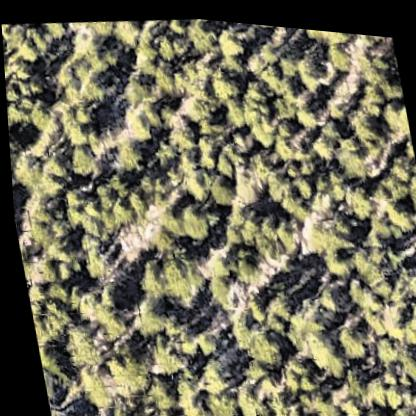tree-top: (146, 239, 205, 303), (261, 41, 323, 96), (95, 339, 153, 396), (308, 312, 364, 365), (22, 198, 74, 255), (8, 147, 60, 201), (233, 317, 285, 368), (167, 193, 218, 244), (53, 317, 100, 372), (97, 177, 146, 229), (353, 40, 400, 94), (343, 235, 393, 284), (206, 164, 259, 209), (218, 200, 269, 246), (86, 290, 132, 341), (4, 83, 51, 132), (70, 232, 115, 282), (68, 362, 114, 410), (141, 331, 187, 377), (270, 345, 316, 391), (3, 20, 49, 66), (299, 322, 344, 369), (326, 125, 371, 172), (346, 277, 395, 320), (68, 182, 108, 231), (223, 161, 266, 206), (28, 293, 71, 338), (192, 350, 234, 395), (50, 91, 92, 134), (327, 312, 367, 356), (105, 132, 147, 173), (60, 137, 101, 179), (64, 22, 105, 63), (376, 152, 416, 194), (120, 98, 159, 140), (167, 374, 206, 416), (300, 216, 344, 253), (240, 102, 277, 145), (144, 372, 180, 416), (74, 58, 114, 97), (197, 271, 238, 308), (211, 21, 249, 60), (200, 165, 236, 206), (344, 96, 380, 136), (203, 62, 240, 100), (103, 390, 156, 416), (183, 14, 219, 52), (191, 240, 229, 276), (367, 323, 403, 360), (160, 115, 196, 152), (377, 89, 409, 130), (382, 189, 416, 226), (23, 248, 57, 285), (253, 289, 287, 326), (198, 383, 236, 416), (148, 26, 183, 61), (338, 177, 373, 212), (181, 87, 216, 122), (289, 90, 323, 126), (132, 301, 166, 337), (229, 245, 266, 278), (272, 180, 307, 214), (317, 238, 351, 272), (323, 30, 354, 66), (147, 56, 178, 92), (304, 126, 337, 159), (395, 293, 416, 343), (110, 15, 144, 44), (81, 16, 120, 40), (333, 386, 363, 416), (273, 394, 311, 416), (208, 144, 234, 174), (288, 166, 314, 195), (353, 395, 384, 416), (39, 19, 69, 40), (317, 24, 356, 39), (400, 260, 416, 296), (350, 27, 390, 40), (410, 362, 416, 413), (253, 19, 280, 27)
